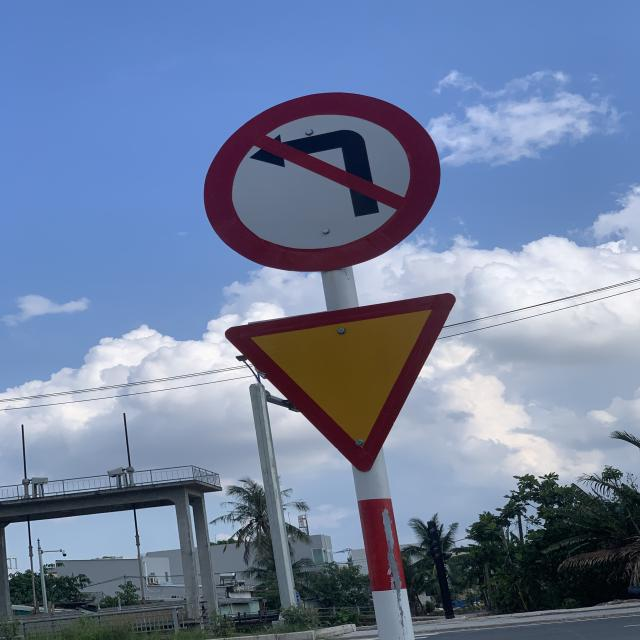Cam_Re_Trai: (208, 91, 441, 270)
Gioi_Han_Toc_Do_25: (223, 294, 453, 471)
